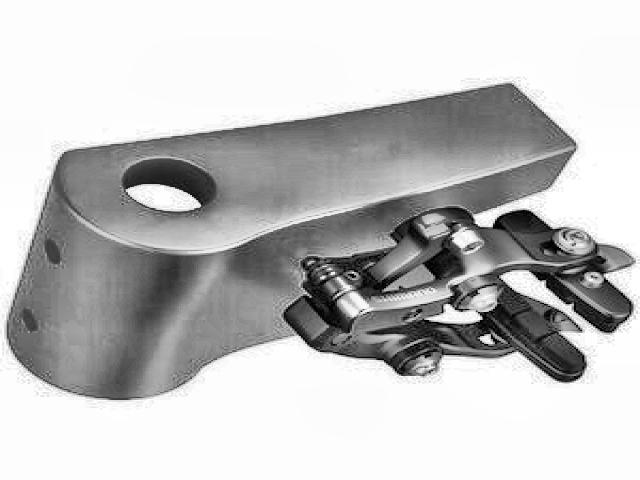rim_brake: (282, 203, 640, 389)
